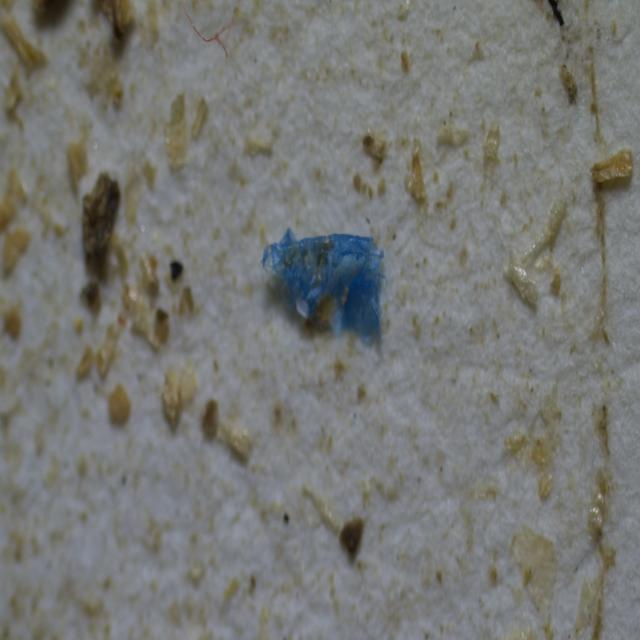microplastic: (255, 223, 390, 342)
